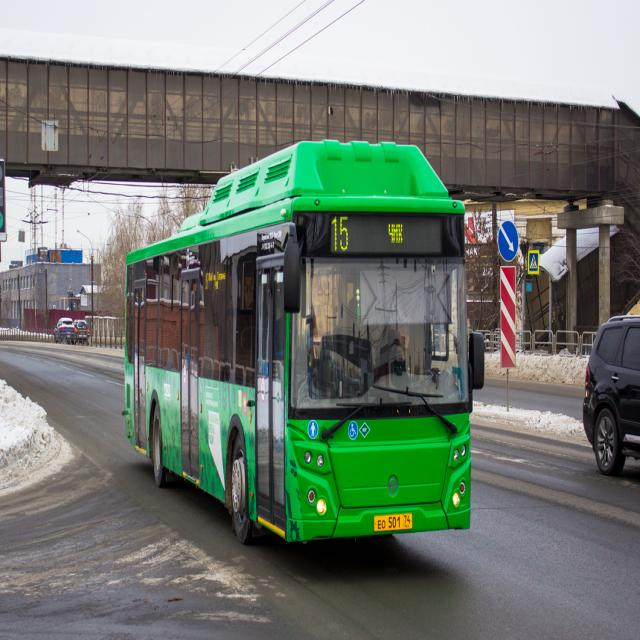number-of-bus: (331, 216, 352, 252)
